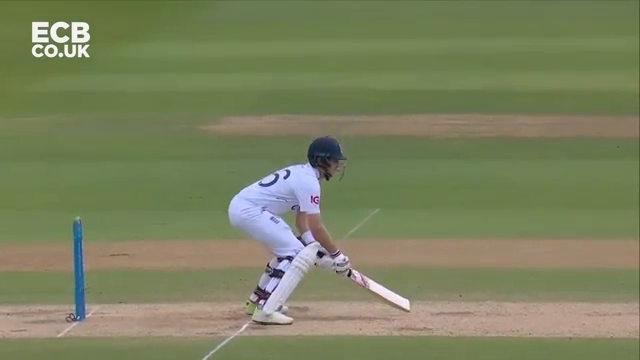batsman: (225, 135, 414, 324)
